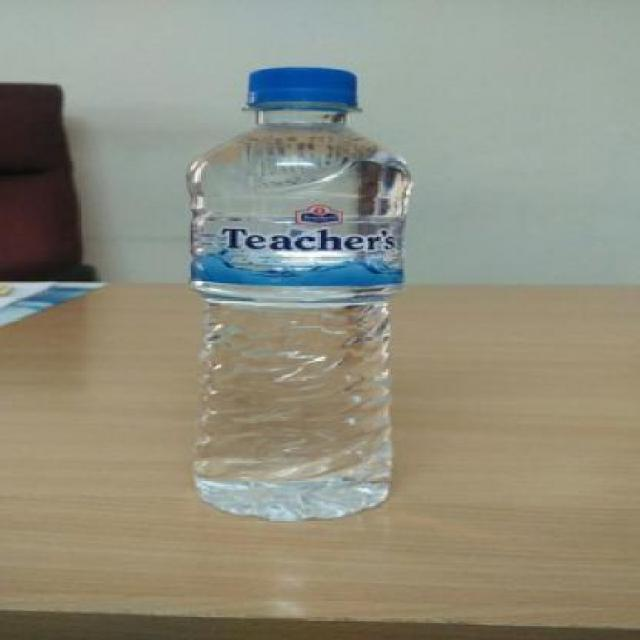bottle: (150, 46, 437, 557)
